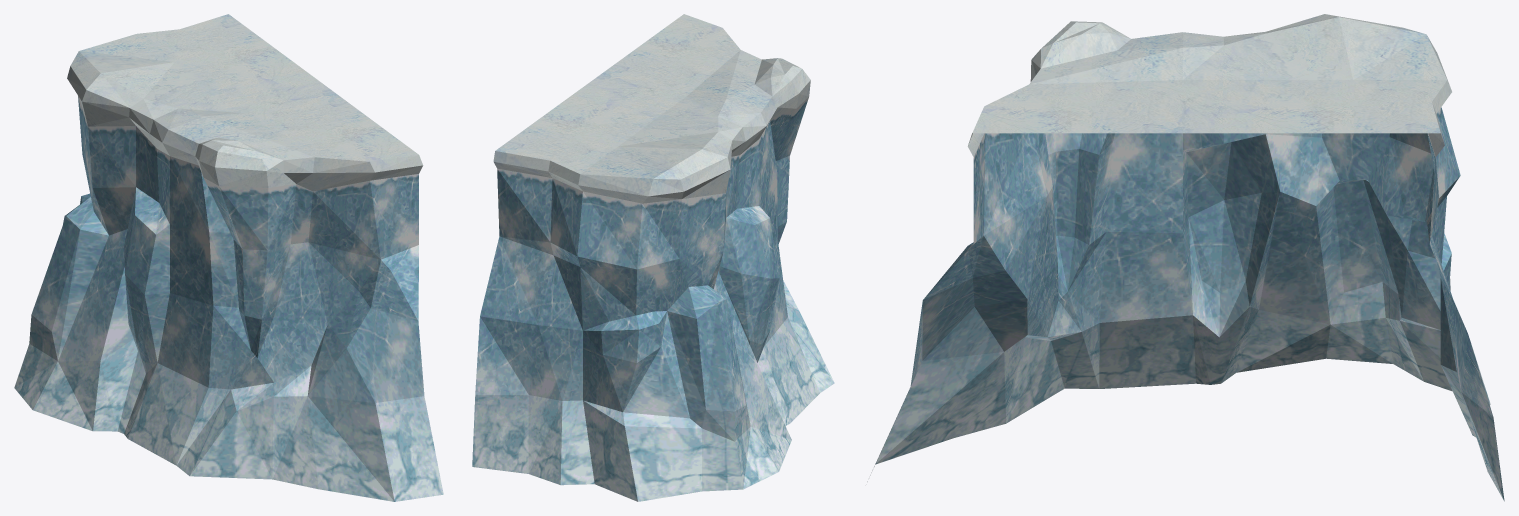
The model's file is C1SNICECLAD_H.bgf.obj.
The picture shows the model from 3 angles, left to right: view 1: azimuth 30°, elevation 25°; view 2: azimuth 150°, elevation 25°; view 3: azimuth 270°, elevation 25°; orthographic projection. The views are drawn at different scales.
Visible parts, largest first — view 1: C1SNICECLAD; view 2: C1SNICECLAD; view 3: C1SNICECLAD.
Boxes of the visible parts, box(x1,y1,x2,y2) form: C1SNICECLAD: box(14, 14, 443, 501); C1SNICECLAD: box(472, 14, 834, 501); C1SNICECLAD: box(867, 14, 1504, 501).
Bounding box in the file's own units: 30.26 × 37.23 × 55.64.
Materials: 2 (2 with a texture image).
